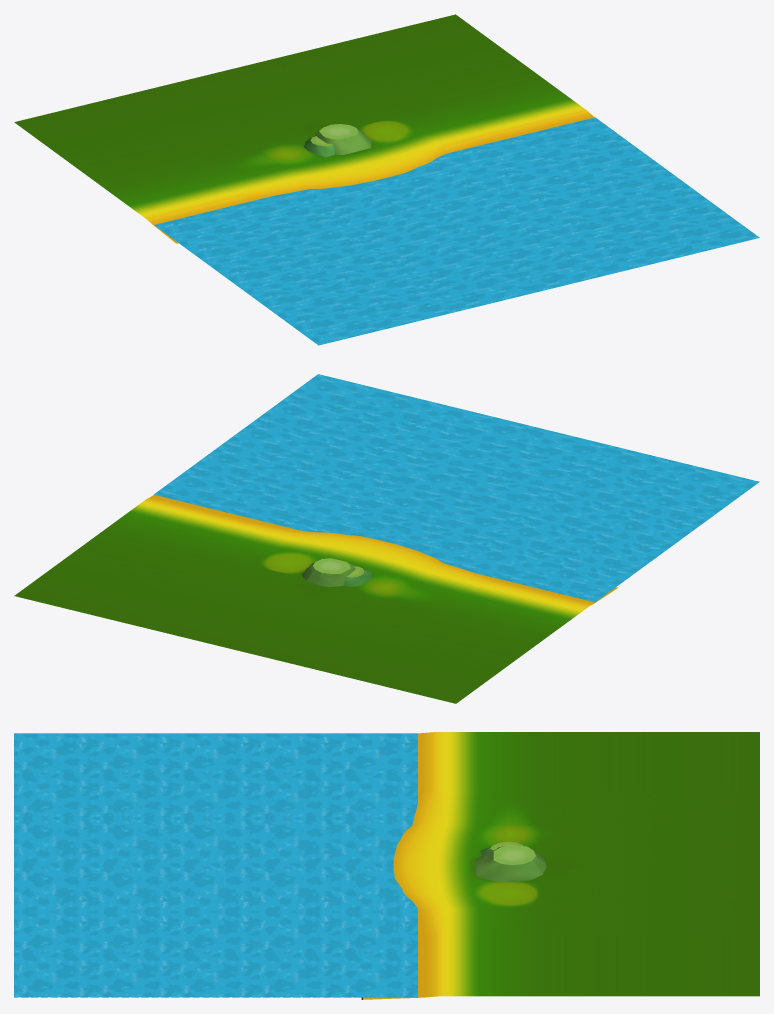
Rendered from Back_Ground.FBX.
The picture shows the model from 3 angles, top to bottom: view 1: azimuth 30°, elevation 25°; view 2: azimuth 150°, elevation 25°; view 3: azimuth 270°, elevation 25°; orthographic projection. The views are drawn at different scales.
Visible parts, largest first — view 1: Sea, Land; view 2: Sea, Land; view 3: Sea, Land.
Boxes of the visible parts, <box> form: Sea: <box>154,117,759,345</box>; Land: <box>14,14,594,243</box>; Sea: <box>154,374,759,602</box>; Land: <box>14,495,617,703</box>; Sea: <box>14,733,417,997</box>; Land: <box>361,732,759,999</box>.
Size of the model in its own units: 634 by 17.55 by 755.
